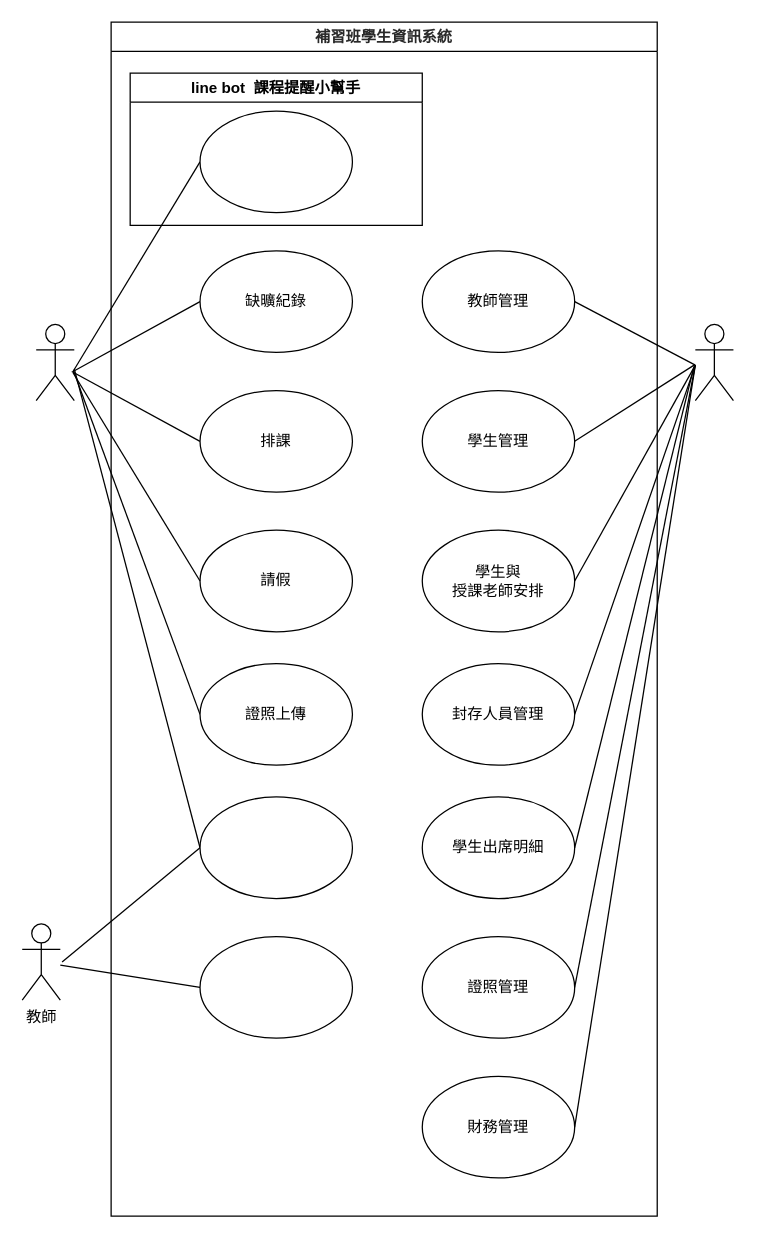
The diagram is 759 pixels wide and 1238 high, and some of its shapes have lost their labels. The centre of each missing label's shape, as x and y in pixels:
"上課提醒" belongs at [275,161].
"個人檔案" belongs at [275,847].
"學生" belongs at [54,362].
"管理員" belongs at [713,362].
"課堂點名" belongs at [275,986].
